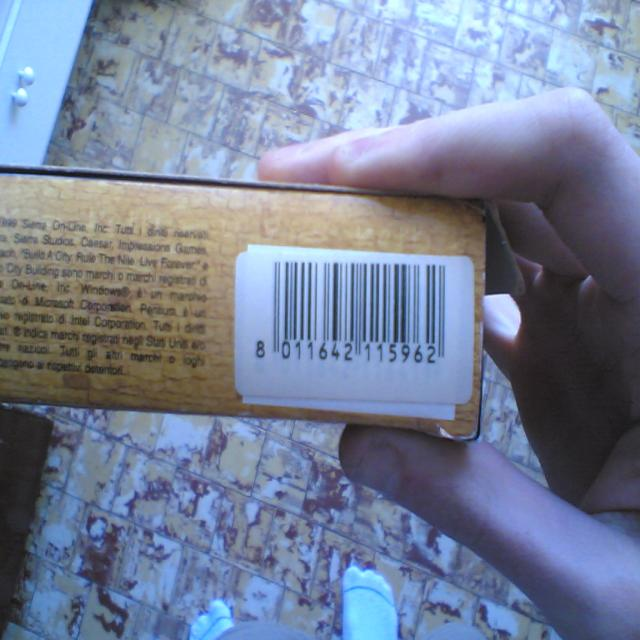barcode: (235, 245, 475, 418)
